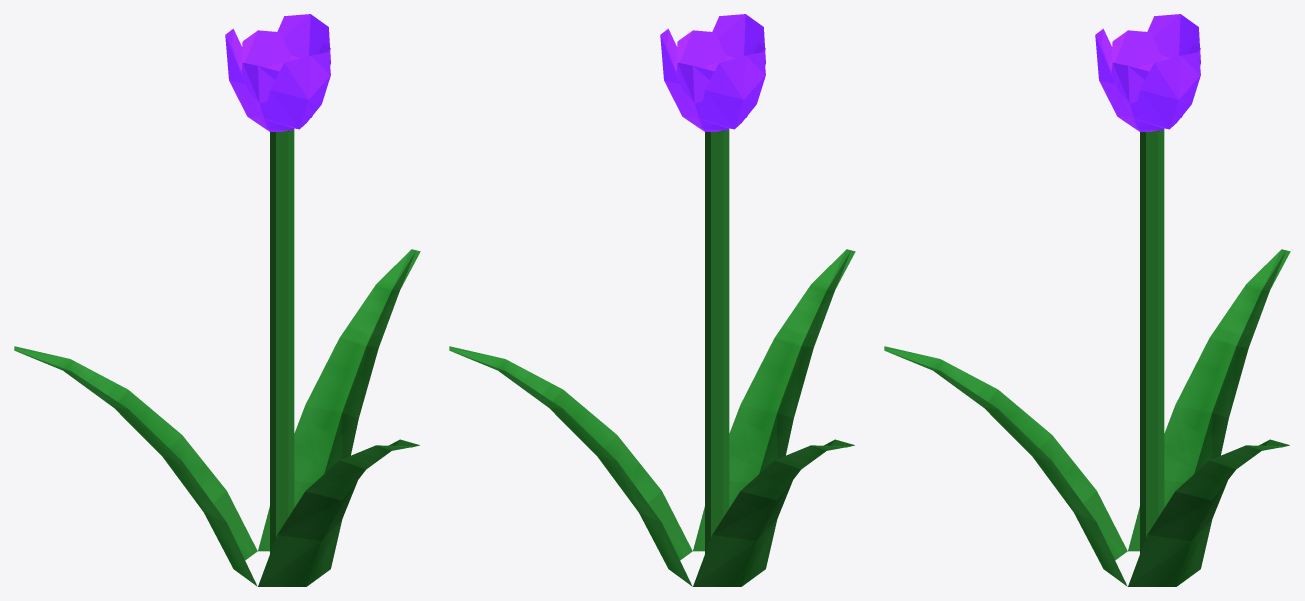
The model's file is Tulip2.glb.
The picture shows the model from 3 angles, left to right: view 1: azimuth 30°, elevation 25°; view 2: azimuth 150°, elevation 25°; view 3: azimuth 270°, elevation 25°; orthographic projection.
Visible parts, largest first — view 1: Leaves, Stem, Petals; view 2: Leaves, Stem, Petals; view 3: Leaves, Stem, Petals.
Part boxes in pixels (x1=…): Leaves: x1=14, y1=249, x2=420, y2=586; Stem: x1=270, y1=129, x2=294, y2=553; Petals: x1=225, y1=14, x2=330, y2=131; Leaves: x1=449, y1=249, x2=855, y2=586; Stem: x1=705, y1=129, x2=729, y2=553; Petals: x1=660, y1=14, x2=765, y2=131; Leaves: x1=884, y1=249, x2=1290, y2=586; Stem: x1=1140, y1=129, x2=1164, y2=553; Petals: x1=1095, y1=14, x2=1200, y2=131.
Bounding box in the file's own units: 0.4817 × 0.605 × 0.4172.
Materials: 3 (1 with a texture image).
